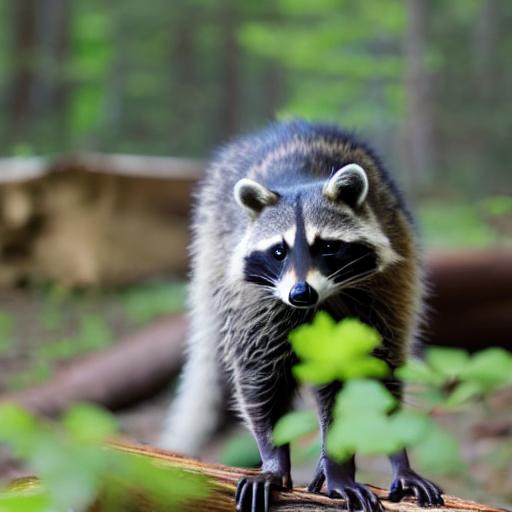raccoon: (155, 107, 431, 439)
